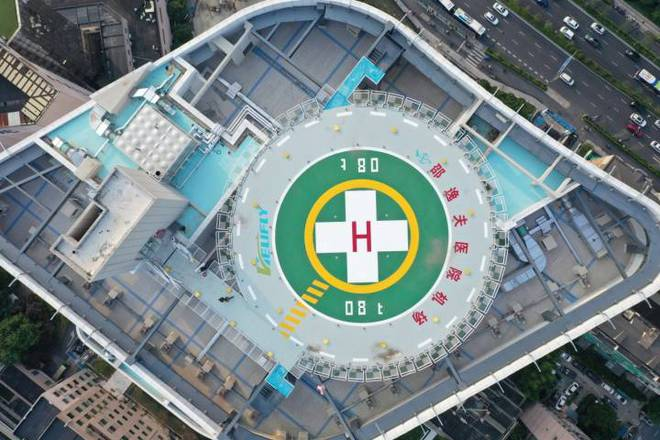Apron: (303, 179, 421, 293)
